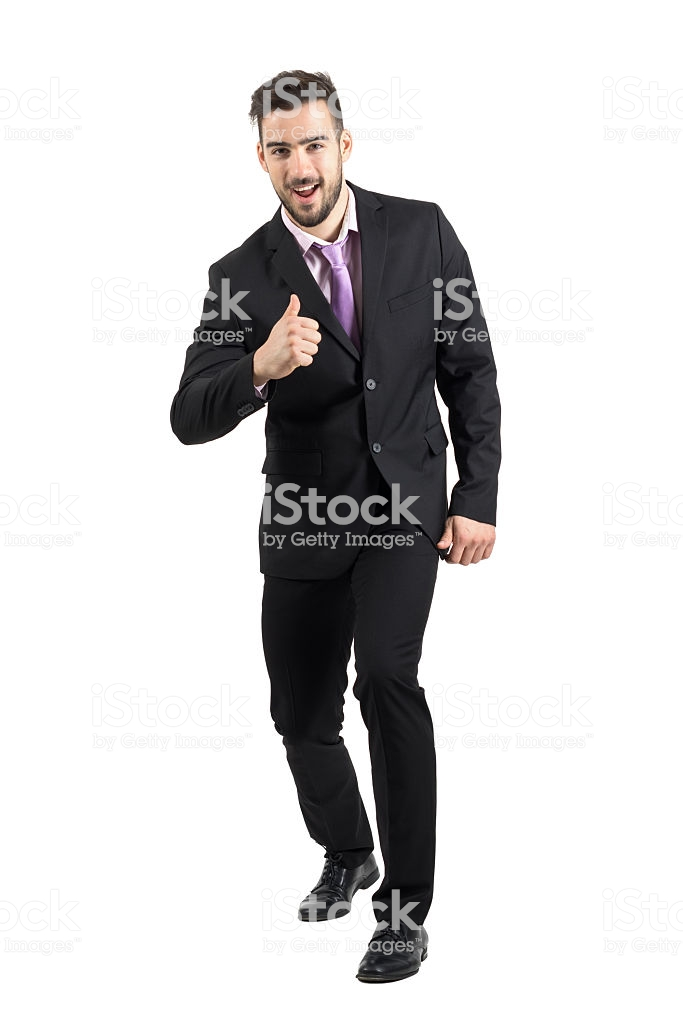thumbsup: (264, 292, 323, 377)
